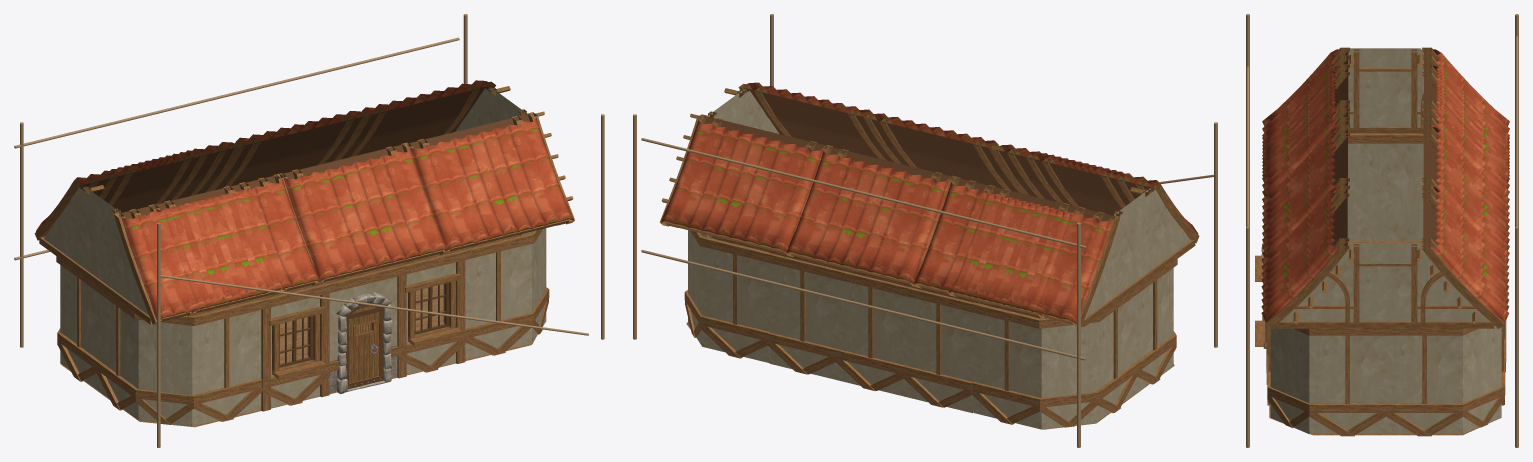
Rendered from Building1Whole_P3.glb.
The picture shows the model from 3 angles, left to right: view 1: azimuth 30°, elevation 25°; view 2: azimuth 150°, elevation 25°; view 3: azimuth 270°, elevation 25°; orthographic projection.
Bounding box in the file's own units: 13.33 × 6.3 × 7.09.
7 materials, 5 textured.
